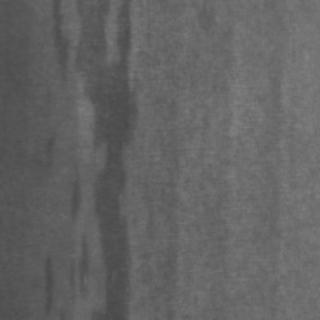inclusion: (72, 0, 134, 314), (40, 0, 72, 80)
